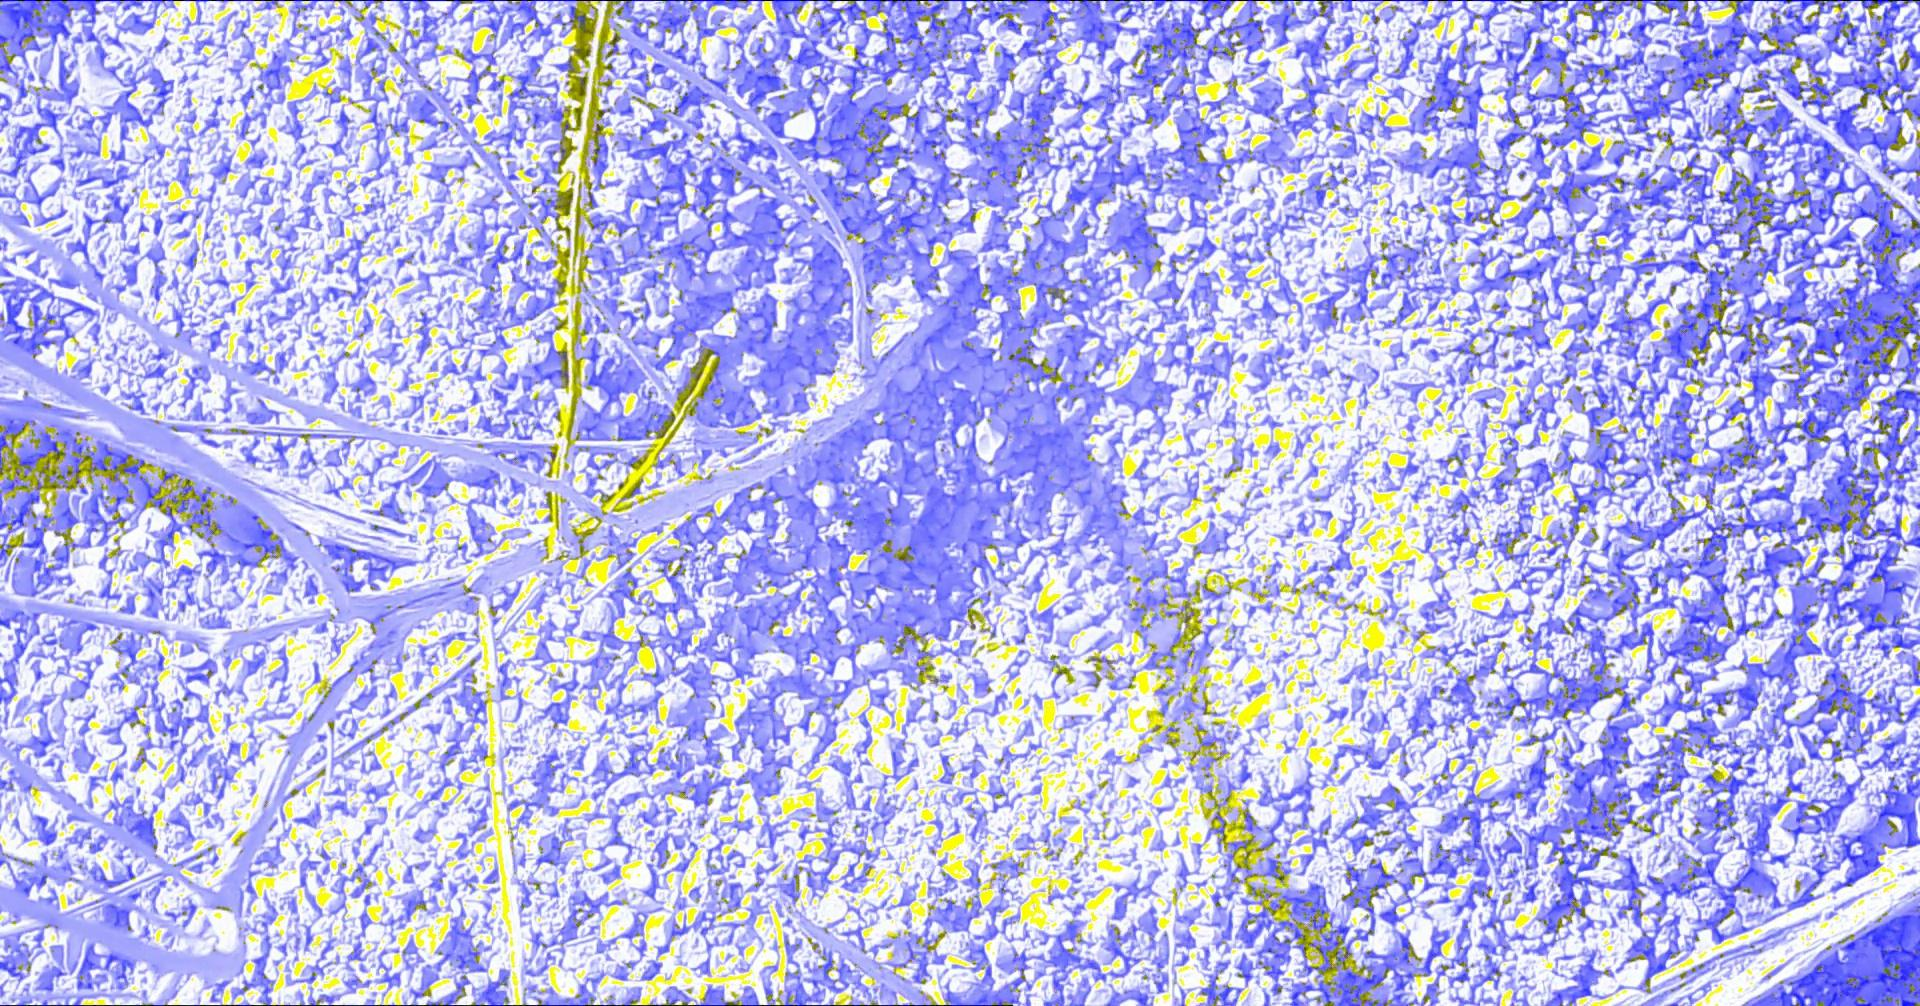ant: (1710, 0, 1846, 58), (1850, 0, 1920, 64), (1707, 866, 1760, 941), (848, 0, 927, 47), (1876, 385, 1920, 467), (1845, 541, 1907, 598), (1857, 201, 1920, 251), (1837, 460, 1890, 521), (1738, 171, 1777, 251), (1545, 869, 1592, 932), (1879, 777, 1920, 846), (1542, 0, 1617, 36), (1556, 674, 1617, 716), (1837, 835, 1881, 889), (1843, 65, 1912, 97), (1710, 776, 1747, 829), (1837, 600, 1887, 639), (1818, 171, 1857, 222), (1112, 0, 1203, 20), (1634, 937, 1674, 981), (1702, 520, 1737, 567), (928, 0, 983, 30), (1338, 970, 1385, 1005), (1658, 512, 1703, 547), (1601, 725, 1632, 776), (1553, 824, 1591, 865), (1123, 210, 1161, 246), (1617, 625, 1655, 661), (1642, 177, 1683, 208), (1625, 856, 1644, 922), (1629, 94, 1676, 121), (809, 118, 839, 159), (1437, 57, 1460, 108), (1173, 18, 1201, 58), (1870, 121, 1903, 155), (1837, 104, 1863, 149), (1690, 721, 1730, 749), (662, 164, 687, 207), (1473, 0, 1526, 20), (1763, 553, 1793, 588), (1774, 301, 1818, 325), (1669, 321, 1697, 358), (775, 0, 832, 18), (1749, 44, 1802, 64), (1770, 191, 1815, 213), (1743, 518, 1797, 537), (1818, 683, 1851, 713), (1803, 503, 1832, 535), (700, 166, 717, 218), (1763, 104, 1797, 131), (1751, 810, 1771, 855), (1865, 514, 1902, 539), (13, 493, 41, 525), (850, 60, 869, 105), (1697, 224, 1735, 246), (1134, 43, 1158, 79), (1398, 36, 1418, 77), (1787, 236, 1815, 267), (1811, 138, 1837, 170), (1501, 260, 1545, 279), (331, 545, 378, 563), (1663, 882, 1707, 901), (1426, 936, 1448, 974), (1636, 298, 1667, 324), (1785, 635, 1806, 674), (1827, 11, 1851, 44), (825, 126, 858, 150), (1738, 685, 1761, 719), (1719, 135, 1749, 161), (1575, 109, 1599, 141), (245, 528, 277, 553), (1688, 859, 1719, 883), (1057, 0, 1116, 13), (1771, 215, 1810, 234), (1702, 319, 1724, 351), (1667, 640, 1703, 661), (1506, 696, 1542, 716), (1789, 801, 1810, 837), (1681, 43, 1709, 69), (1820, 800, 1848, 826), (1901, 345, 1920, 382), (1716, 103, 1738, 133), (1731, 323, 1761, 345), (1575, 490, 1597, 521), (1225, 18, 1263, 36), (1884, 159, 1920, 178), (797, 39, 822, 67), (1641, 772, 1669, 796), (1578, 848, 1609, 870), (32, 290, 50, 326), (1751, 486, 1790, 503), (1465, 810, 1482, 848), (949, 991, 993, 1005), (822, 8, 843, 36), (1634, 260, 1677, 274), (1789, 278, 1810, 307), (1558, 173, 1575, 208), (8, 298, 25, 332), (1591, 391, 1609, 424), (1752, 371, 1777, 395), (1628, 0, 1685, 10), (1573, 970, 1592, 1001), (1573, 766, 1595, 793), (1689, 5, 1709, 33), (1688, 606, 1716, 626), (1683, 72, 1712, 91), (668, 0, 740, 8), (132, 815, 156, 838), (1467, 884, 1490, 908), (1727, 399, 1752, 420), (1580, 177, 1610, 194), (1617, 50, 1644, 69), (1613, 550, 1632, 578), (1722, 170, 1738, 202), (1591, 641, 1608, 673), (643, 142, 677, 158), (1750, 149, 1773, 171), (902, 211, 924, 234), (1707, 263, 1722, 297), (738, 132, 762, 154), (1001, 0, 1051, 10), (17, 123, 43, 142), (1161, 22, 1175, 57), (1580, 146, 1601, 169), (1834, 575, 1854, 600), (676, 91, 701, 111), (1531, 762, 1550, 788), (1829, 230, 1855, 248), (1735, 446, 1756, 467), (1035, 9, 1058, 29), (1646, 69, 1669, 89), (1752, 664, 1783, 680), (785, 995, 830, 1005), (1498, 132, 1526, 149), (1694, 175, 1713, 199), (30, 332, 55, 351), (1639, 20, 1669, 36), (763, 311, 777, 343), (1811, 861, 1827, 888), (1029, 102, 1051, 121), (1787, 83, 1812, 99), (404, 997, 458, 1005), (1203, 0, 1232, 14), (157, 80, 173, 107), (1765, 246, 1780, 273), (488, 982, 505, 1005), (44, 434, 65, 453), (22, 453, 47, 469), (25, 527, 44, 547), (1312, 892, 1327, 917), (1594, 447, 1610, 470), (1496, 845, 1523, 859), (1688, 123, 1703, 147), (1084, 22, 1103, 41), (1459, 111, 1478, 130), (512, 75, 530, 95), (758, 74, 780, 90), (1566, 89, 1582, 111), (1790, 376, 1807, 398), (1713, 690, 1735, 706), (1, 962, 23, 978), (1714, 66, 1728, 91), (1843, 432, 1857, 457), (81, 946, 95, 972), (1269, 965, 1283, 991), (1280, 14, 1291, 44), (1672, 446, 1695, 461), (69, 301, 95, 314), (1797, 22, 1821, 36), (1713, 583, 1730, 603), (1533, 39, 1548, 61), (1787, 132, 1812, 145), (1895, 634, 1920, 647), (1735, 121, 1757, 135), (521, 0, 537, 19), (590, 366, 607, 385), (1794, 889, 1815, 904), (1581, 62, 1603, 76), (1837, 512, 1851, 533), (571, 6, 587, 25), (771, 112, 783, 135), (596, 144, 608, 166), (1738, 619, 1757, 634), (1525, 25, 1537, 50), (1907, 46, 1920, 67), (1704, 634, 1717, 655), (1382, 908, 1399, 923), (1023, 41, 1043, 55), (1587, 788, 1596, 817), (1070, 187, 1087, 202), (1771, 796, 1788, 812), (61, 60, 70, 88), (1575, 608, 1586, 630), (1797, 614, 1818, 625), (1402, 935, 1411, 962), (1683, 260, 1703, 272), (1848, 25, 1859, 44), (1702, 298, 1713, 318), (1583, 312, 1597, 328), (668, 15, 688, 25), (1537, 136, 1545, 159), (1846, 784, 1855, 801)
